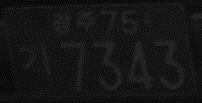3: (90, 40, 123, 91), (155, 40, 186, 92)
4: (127, 41, 154, 92)
5: (119, 9, 139, 36)
7: (57, 38, 89, 91), (97, 8, 118, 37)
가: (18, 39, 54, 82)
광주_O: (49, 9, 96, 35)
